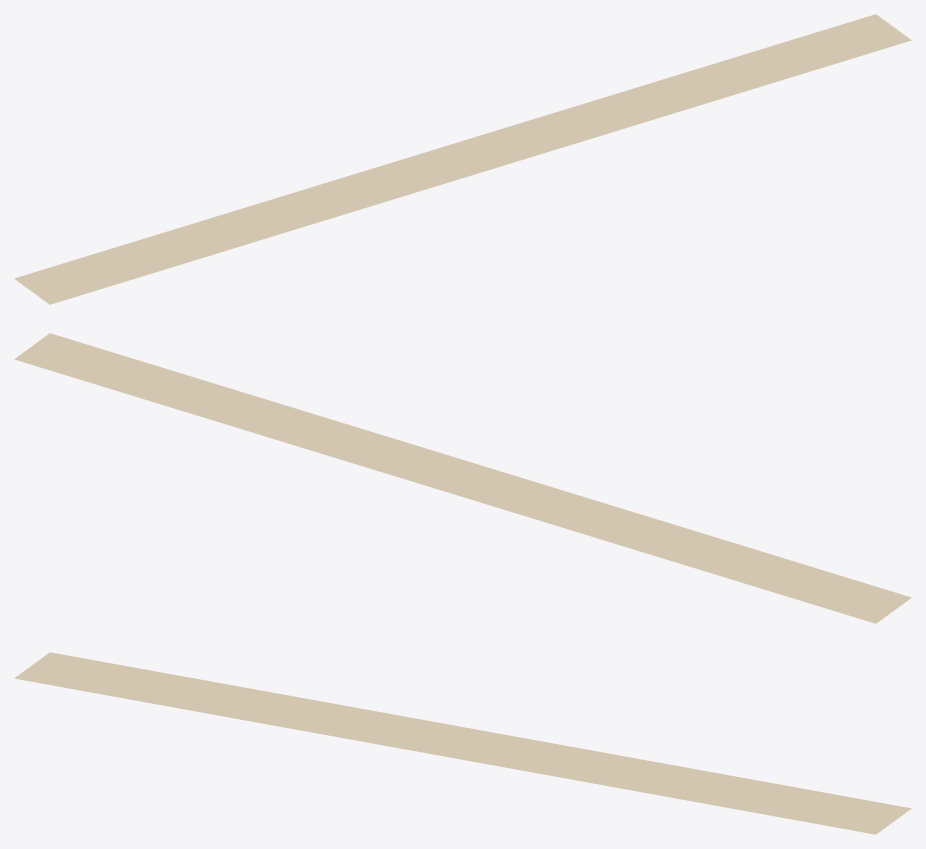
The model's file is eb_path_1630.glb.
3 renders of one model, top to bottom at view 1: azimuth 30°, elevation 25°; view 2: azimuth 150°, elevation 25°; view 3: azimuth 330°, elevation 25°, orthographic.
Parts seen in each view (by area): view 1: eb_path_1630_lod0; view 2: eb_path_1630_lod0; view 3: eb_path_1630_lod0.
Boxes of the visible parts, x1,y1,x2,y2 form: eb_path_1630_lod0: (14, 14, 911, 304); eb_path_1630_lod0: (14, 333, 911, 623); eb_path_1630_lod0: (14, 652, 911, 834).
Size of what is drawn, in the model's own units: 36 by 2.16 by 2.6.
